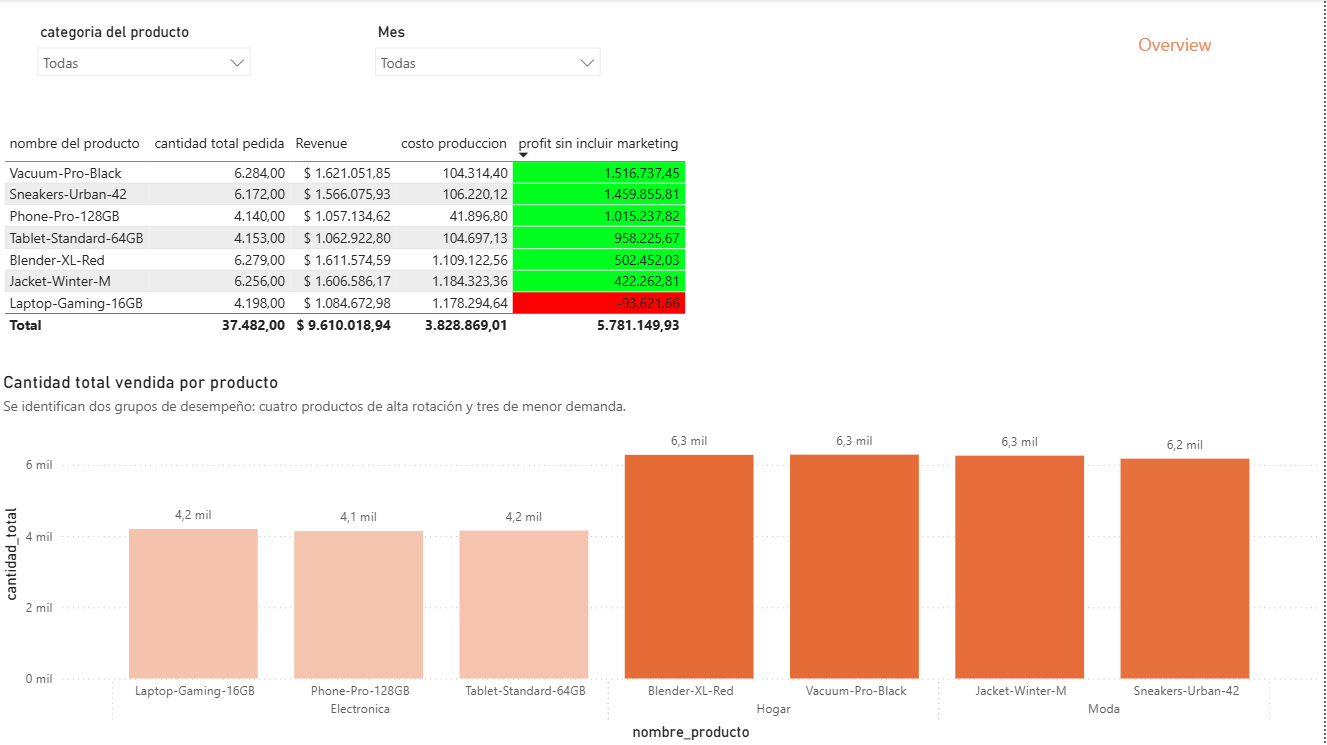

What the dashboard file says about the page in this screenshot:
{"tool":"powerbi","page":{"name":"Detalle","canvas":[1280,720],"ordinal":1},"visuals":[{"type":"tableEx","fields":{"Values":["orders_clean.nombre_producto","Sum(orders_clean.cantidad)","orders_clean.Revenue","orders_clean.costo_produccion","orders_clean.profit_sin_marketing"]},"box":[0,123.1,676.8,217.2],"z":0},{"type":"clusteredColumnChart","title":"Cantidad total vendida por producto","fields":{"Y":["orders_clean.cantidad_total"],"Category":["orders_clean.categoria_producto","orders_clean.nombre_producto"]},"box":[0,359.5,1280,360.7],"z":1000},{"type":"slicer","fields":{"Values":["dim_fecha.Mes"]},"box":[353.5,18.1,237.7,73.6],"z":2000},{"type":"slicer","fields":{"Values":["orders_clean.categoria_producto"]},"box":[27.7,18.1,225.6,73.6],"z":3000},{"type":"actionButton","title":"Detalle","box":[1037.5,13.3,196.6,59.1],"z":4000}]}

Visuals, with their boxes in screenshot pixels (x1, y1, x2, y2), scaled from the page's 1280x720 canvas onto the 1327x745 screenshot:
tableEx - orders_clean.nombre_producto x Sum(orders_clean.cantidad): {"left": 0, "top": 127, "right": 702, "bottom": 352}
"Cantidad total vendida por producto" clusteredColumnChart: {"left": 0, "top": 372, "right": 1326, "bottom": 744}
slicer - dim_fecha.Mes: {"left": 366, "top": 19, "right": 613, "bottom": 95}
slicer - orders_clean.categoria_producto: {"left": 29, "top": 19, "right": 263, "bottom": 95}
"Detalle" actionButton: {"left": 1076, "top": 14, "right": 1279, "bottom": 75}
